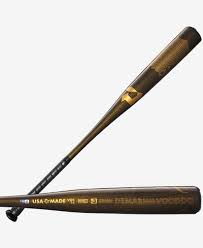baseball bat: (4, 24, 202, 221), (1, 183, 201, 215)
